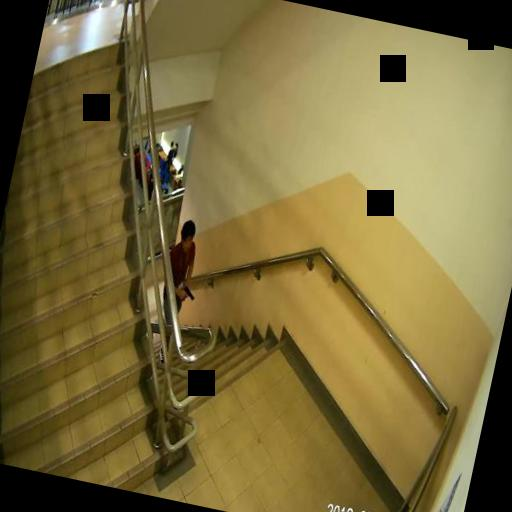Handgun: (180, 284, 194, 300)
